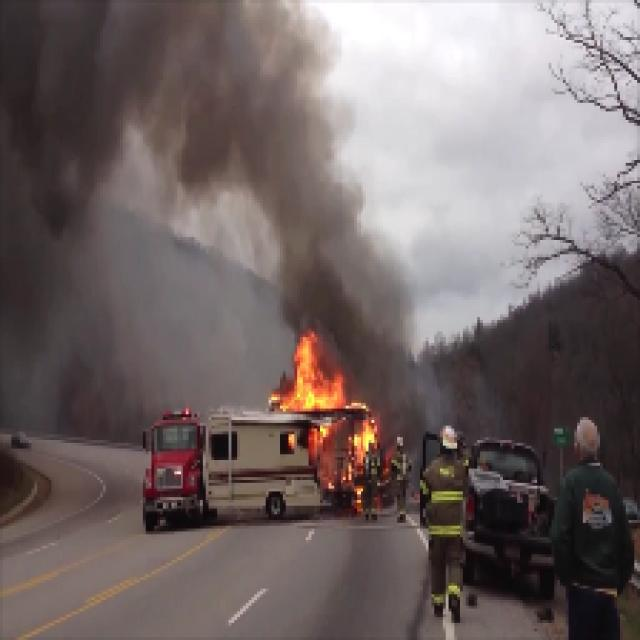fire: (279, 333, 377, 494)
smoke: (0, 1, 365, 209), (266, 212, 420, 326)
